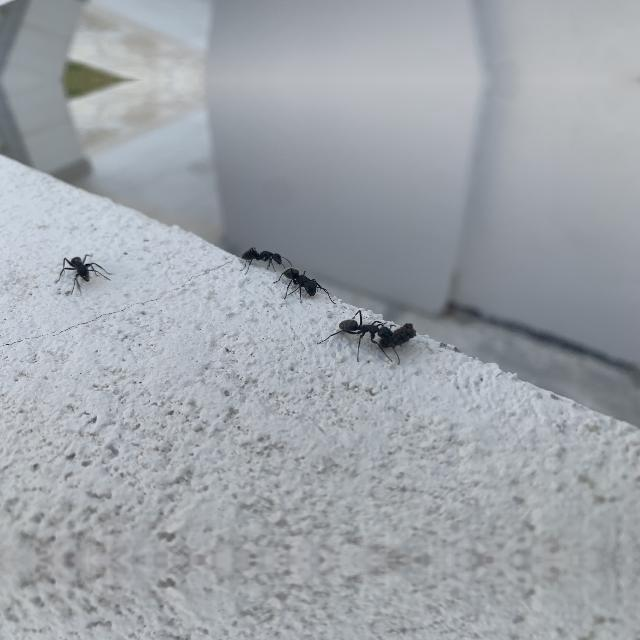Camponotus: (342, 312, 394, 354), (55, 247, 99, 296), (279, 262, 319, 302), (234, 237, 282, 270)
